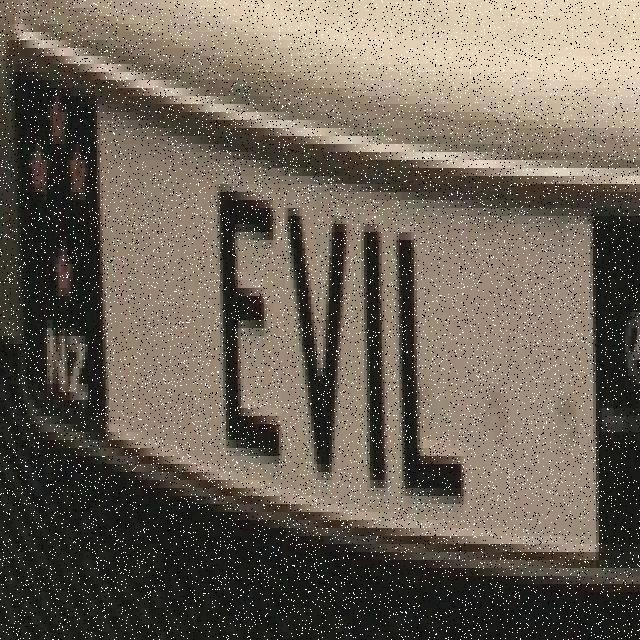LicensePlate: (3, 39, 640, 607)
